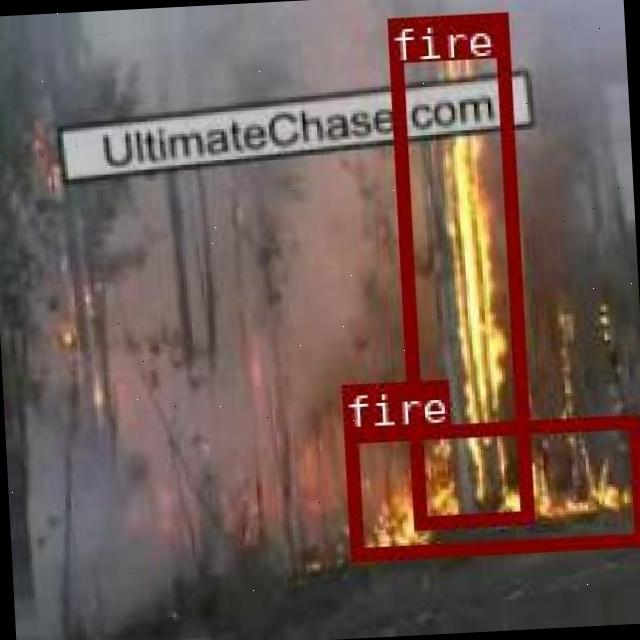fire: (385, 10, 531, 528), (343, 413, 640, 557)
